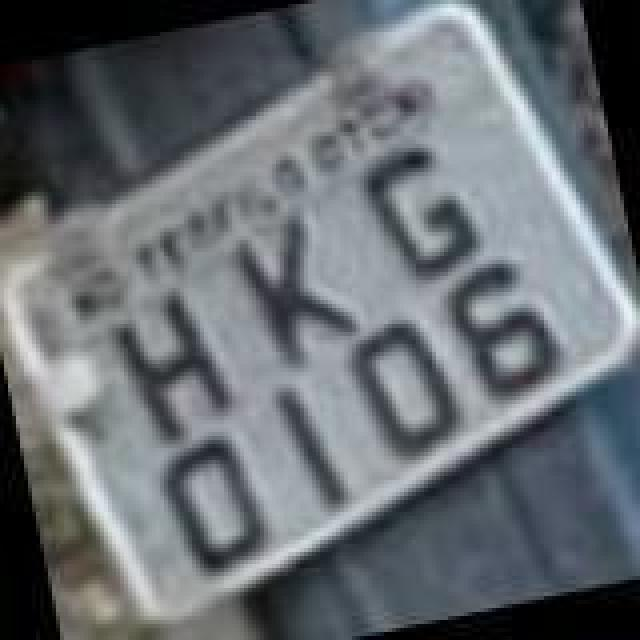1: (268, 374, 356, 514)
6: (440, 248, 568, 408)
G: (346, 126, 486, 290)
H: (102, 280, 242, 456)
K: (224, 200, 368, 376)
O: (342, 308, 466, 460), (154, 430, 278, 578)
